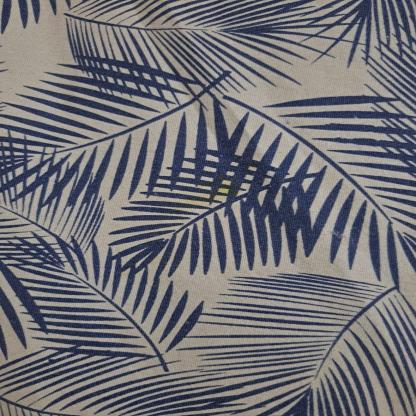spot: (129, 4, 208, 79), (157, 169, 277, 215)
